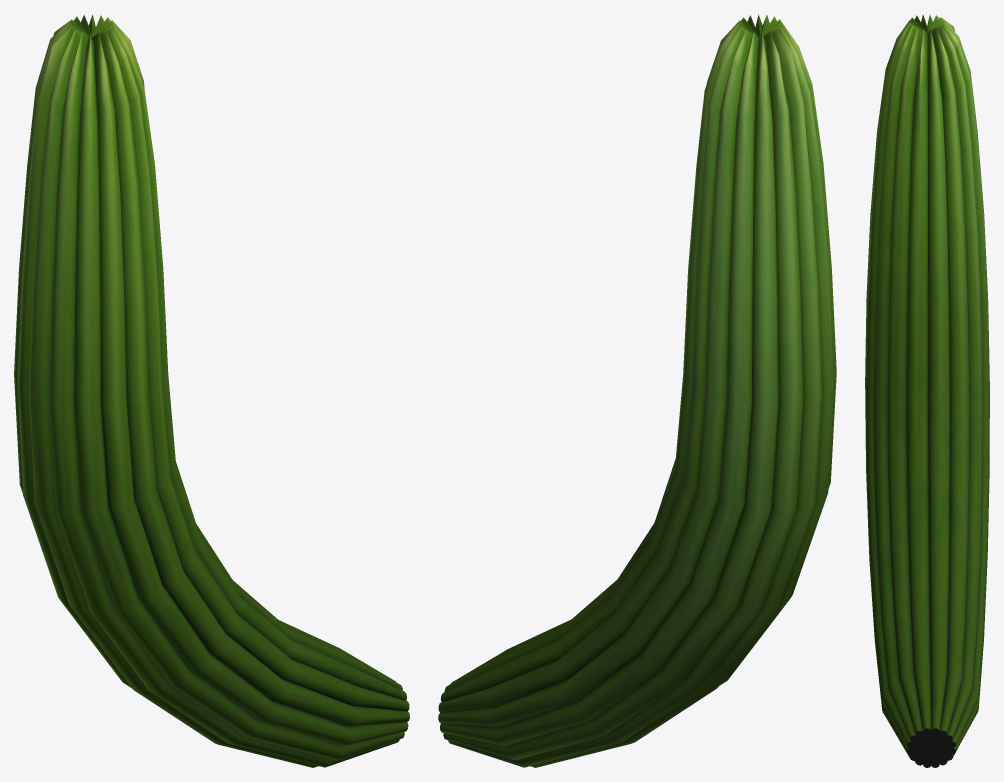
File: DE_Cactus_34.fbx
The picture shows the model from 3 angles, left to right: view 1: azimuth 30°, elevation 25°; view 2: azimuth 150°, elevation 25°; view 3: azimuth 270°, elevation 25°; orthographic projection. The views are drawn at different scales.
Parts seen in each view (by area): view 1: DE_Cactus_34; view 2: DE_Cactus_34; view 3: DE_Cactus_34.
Part boxes in pixels (<box>): DE_Cactus_34: <box>14,14,409,767</box>; DE_Cactus_34: <box>438,14,836,767</box>; DE_Cactus_34: <box>865,14,989,767</box>.
Bounding box in the file's own units: 1.32 × 2.67 × 0.4779.
